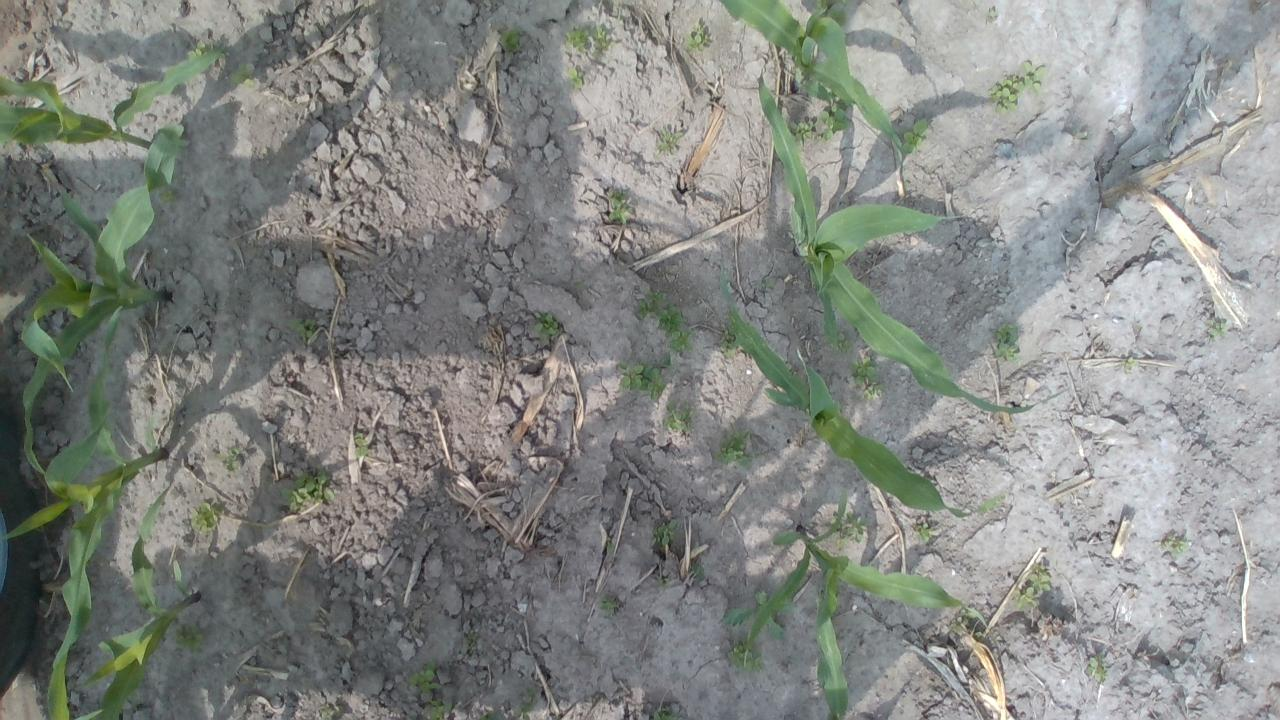Maize: (756, 73, 1038, 414), (715, 258, 988, 522), (4, 304, 165, 720), (14, 124, 185, 478), (746, 490, 989, 720), (717, 0, 909, 165), (80, 489, 200, 720), (0, 46, 224, 153)
Weeds: (723, 590, 790, 640), (616, 358, 672, 402), (280, 470, 335, 512), (659, 302, 695, 354), (714, 430, 755, 468), (820, 96, 850, 142), (988, 75, 1024, 113), (832, 515, 868, 551), (729, 641, 764, 674), (188, 502, 224, 534), (990, 323, 1019, 361), (660, 399, 693, 432), (900, 119, 930, 155), (606, 188, 634, 226), (408, 662, 439, 696), (532, 310, 561, 342), (816, 0, 848, 28), (174, 622, 204, 651), (849, 356, 880, 384), (1022, 60, 1046, 94), (637, 288, 664, 317), (686, 20, 710, 52), (230, 62, 256, 90), (656, 128, 682, 154), (1026, 566, 1051, 592), (790, 119, 814, 146), (592, 24, 614, 53), (654, 520, 679, 545), (563, 26, 589, 50), (220, 446, 242, 473), (1013, 586, 1038, 609), (912, 522, 938, 544), (428, 698, 454, 720), (295, 317, 319, 339), (564, 63, 584, 88), (832, 330, 854, 352), (499, 30, 522, 50), (1089, 654, 1105, 682), (1208, 317, 1230, 337), (652, 706, 682, 720), (186, 41, 210, 58), (720, 338, 740, 358), (1166, 538, 1190, 554), (354, 432, 368, 458), (158, 186, 178, 204), (514, 703, 534, 720), (864, 384, 884, 401), (950, 616, 970, 632), (173, 136, 190, 153), (598, 596, 616, 612), (760, 277, 779, 292), (960, 606, 979, 620), (692, 562, 706, 580), (1070, 128, 1089, 141), (985, 495, 1003, 508), (986, 8, 1000, 22), (322, 708, 336, 720), (464, 639, 476, 652), (1122, 356, 1136, 367), (606, 536, 614, 552), (526, 686, 535, 698), (658, 576, 668, 586), (574, 278, 584, 288), (478, 713, 488, 720)
